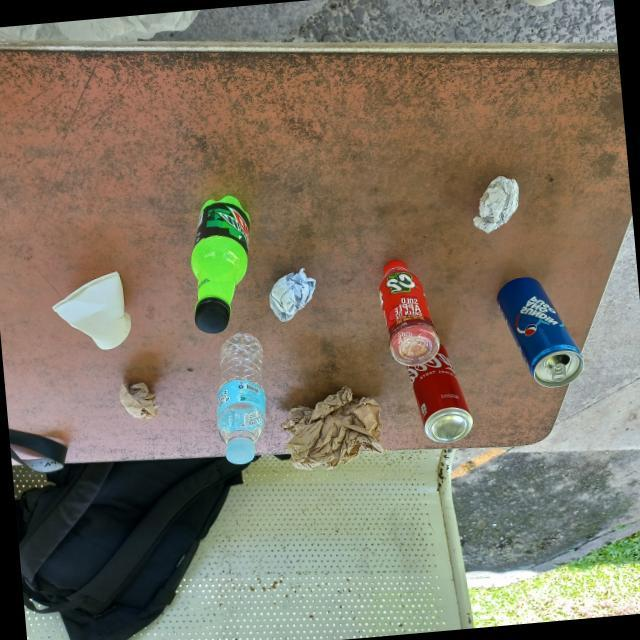recyclable waste: (178, 185, 264, 342), (490, 266, 590, 396), (271, 376, 392, 476), (205, 326, 278, 471), (400, 330, 479, 450), (41, 264, 139, 359), (372, 252, 444, 374), (464, 170, 526, 240), (260, 262, 324, 328), (111, 372, 165, 428)
